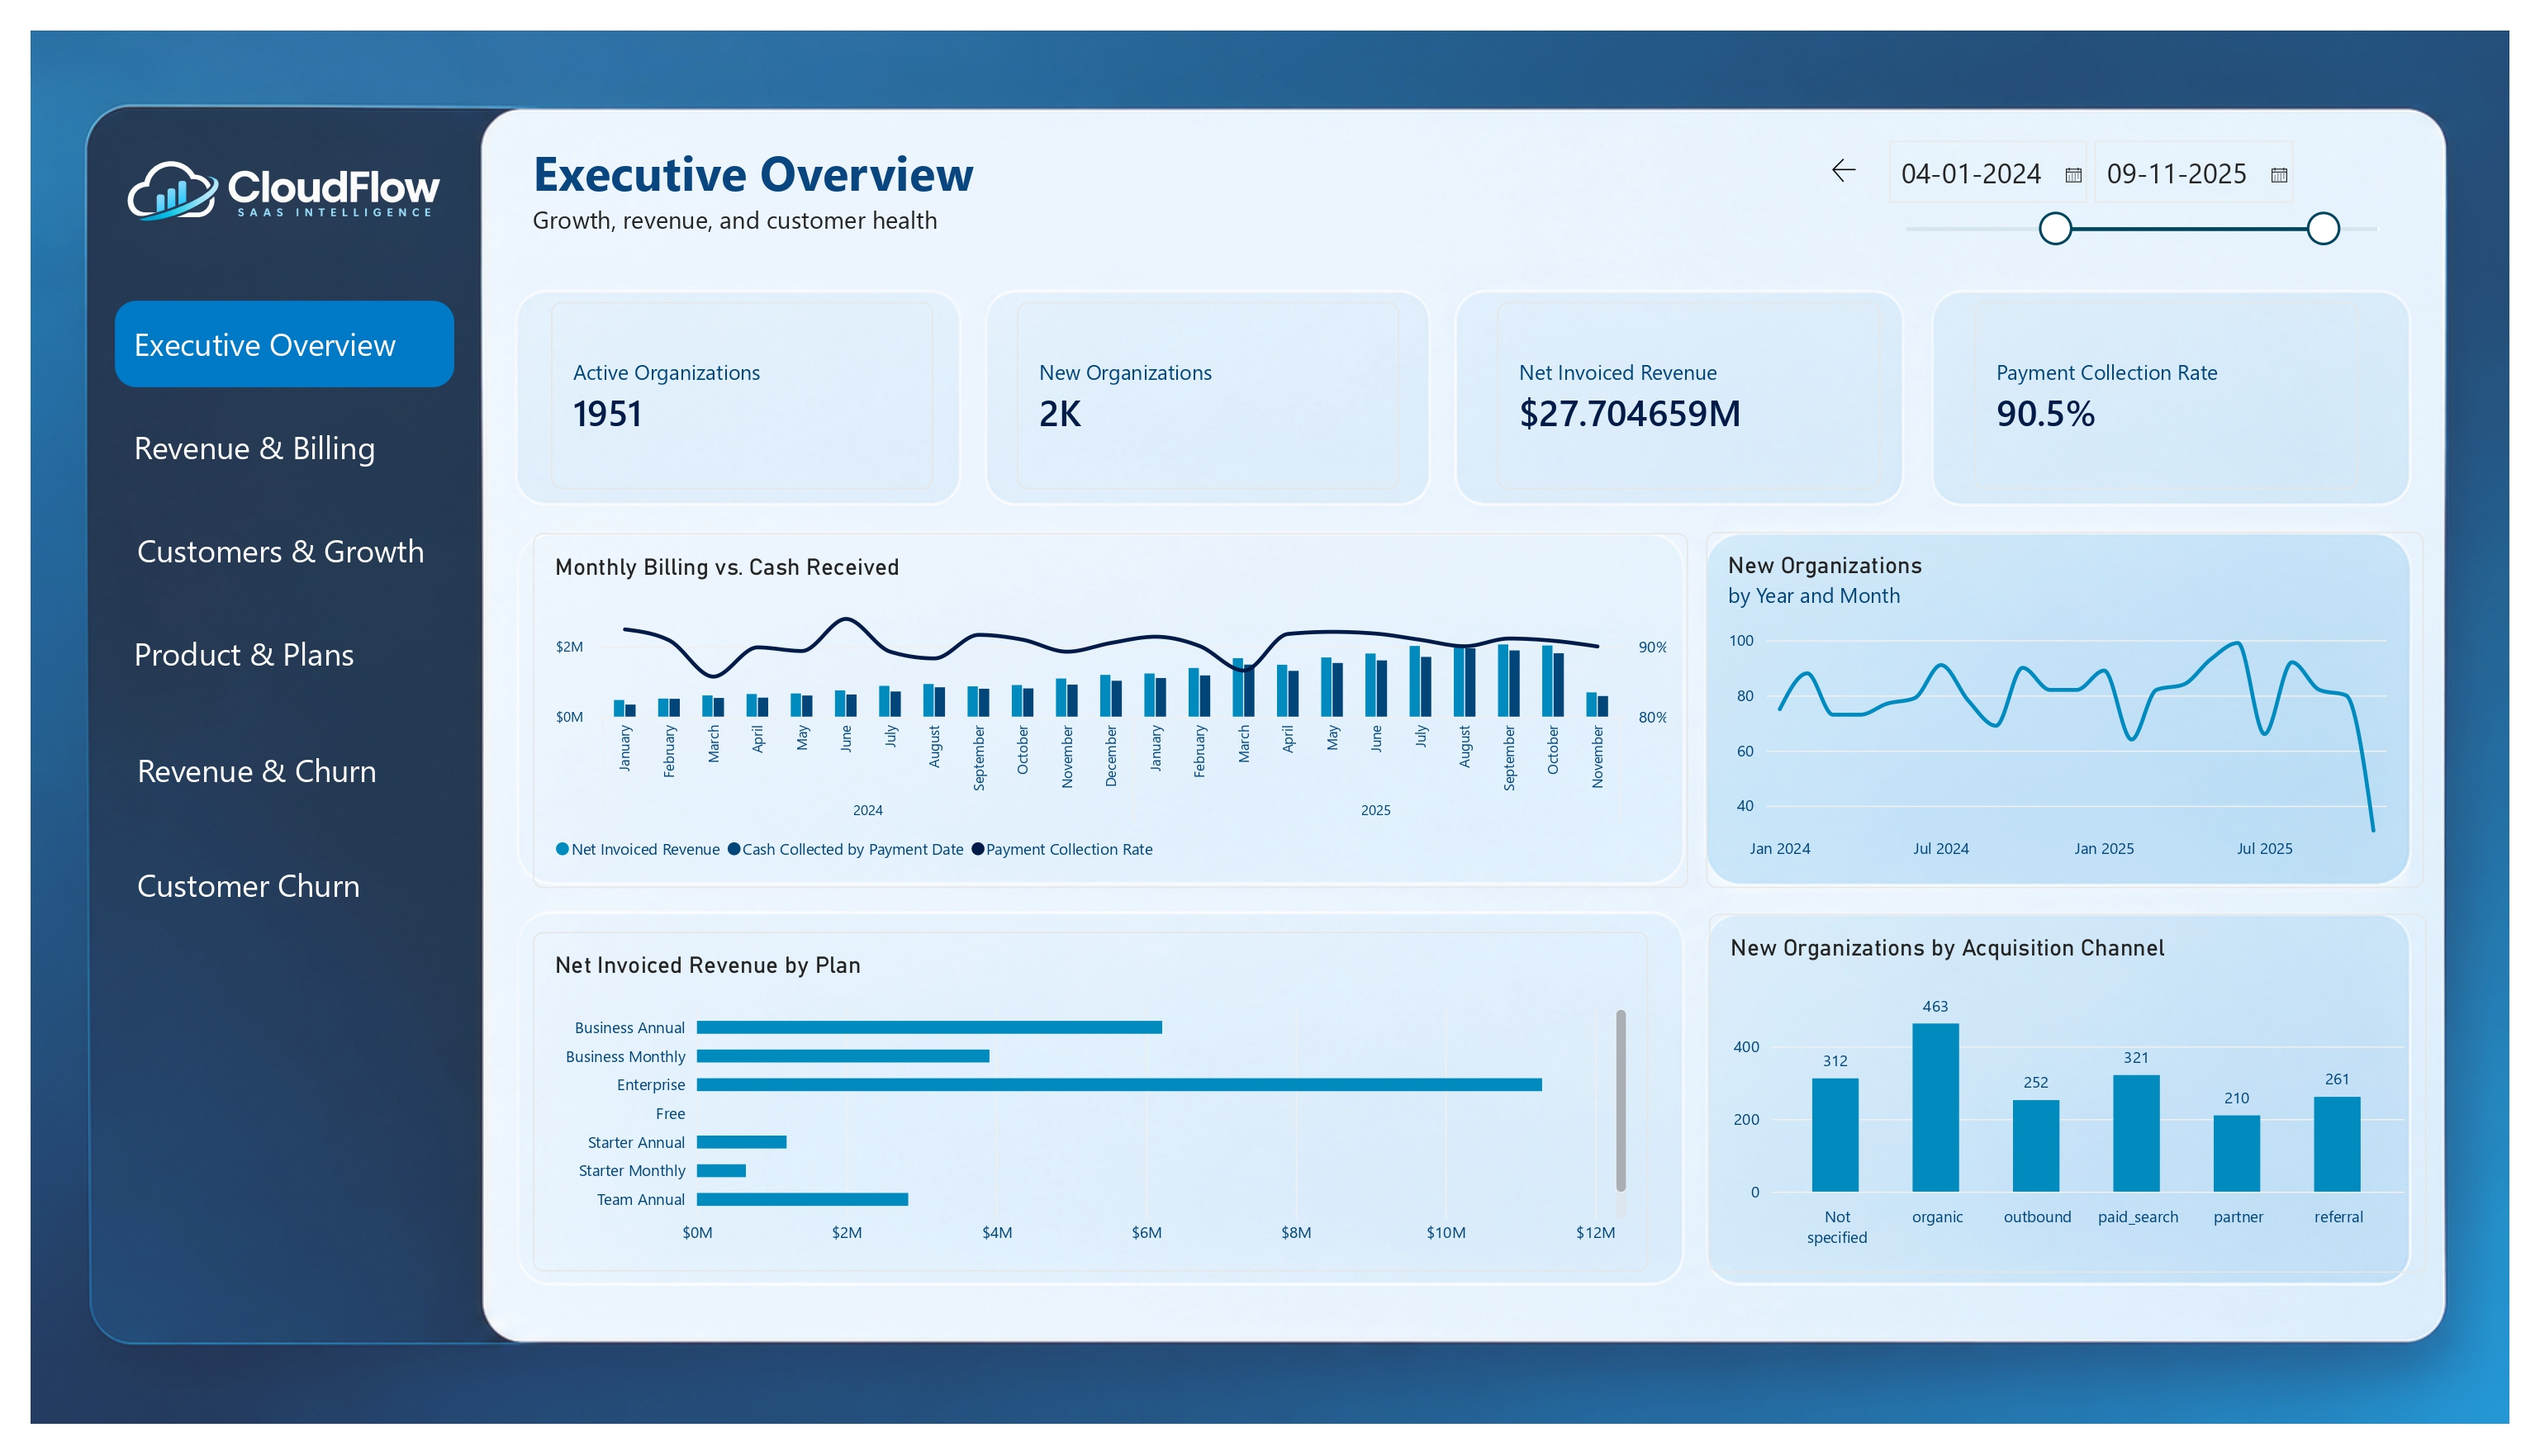

Layout of this report page (visuals, bound fields, positions):
{"tool":"powerbi","page":{"name":"Executive Overview","canvas":[1920,1080],"ordinal":0},"visuals":[{"type":"cardVisual","fields":{"Data":["_Measures (2).Active Organizations"]},"box":[402.5,209.9,296.5,145],"z":0},{"type":"cardVisual","fields":{"Data":["_Measures (2).New Organizations"]},"box":[763.9,209.9,296.5,145],"z":1000},{"type":"cardVisual","fields":{"Data":["_Measures (2).Net Invoiced Revenue"]},"box":[1136.2,209.9,296.5,145],"z":2000},{"type":"cardVisual","fields":{"Data":["_Measures (2).Payment Collection Rate"]},"box":[1506.2,209.9,296.5,145],"z":3000},{"type":"slicer","fields":{"Values":["Dim_Date_table.Date"]},"box":[1431.8,79.5,404.5,109.1],"z":4000},{"type":"lineClusteredColumnComboChart","title":"Monthly Billing vs. Cash Received","fields":{"Category":["Dim_Date_table.Date.Variation.Date Hierarchy.Year","Dim_Date_table.Date.Variation.Date Hierarchy.Month"],"Y":["_Measures (2).Net Invoiced Revenue","_Measures (2).Cash Collected by Payment Date"],"Y2":["_Measures (2).Payment Collection Rate"]},"box":[388.8,388.8,895,275],"z":5000},{"type":"actionButton","box":[1370.5,77.3,68.2,61.4],"z":7000},{"type":"lineChart","fields":{"Category":["Dim_organizations.Signup Month.Variation.Date Hierarchy.Year","Dim_organizations.Signup Month.Variation.Date Hierarchy.Month"],"Y":["_Measures (2).New Organizations"]},"box":[1298,388,556,276],"z":8000},{"type":"clusteredBarChart","title":"Net Invoiced Revenue by Plan","fields":{"Category":["Dim_plans.plan_name"],"Y":["_Measures (2).Net Invoiced Revenue"]},"box":[388.8,697.5,863.8,263.8],"z":9000},{"type":"clusteredColumnChart","title":"New Organizations by Acquisition Channel","fields":{"Category":["Dim_organizations.acquisition_channel"],"Y":["_Measures (2).New Organizations"]},"box":[1300,684,556,278],"z":10000},{"type":"shape","box":[64.9,208.7,262.7,67.3],"z":11000},{"type":"shape","box":[64.9,288,262,68],"z":12000},{"type":"shape","box":[66.9,368,262,68],"z":13000},{"type":"shape","box":[64.9,448,262,68],"z":14000},{"type":"textbox","box":[388.6,84.1,395.5,109.1],"z":15000},{"type":"shape","box":[66.5,537.5,262.5,68.3],"z":16000},{"type":"shape","box":[66.5,627.4,262.5,68.3],"z":17000},{"type":"image","box":[64.7,50.3,262.5,149.2],"z":18000}]}

Visuals, with their boxes on the page's 1920x1080 design canvas (x1, y1, x2, y2). These are canvas units, not pixel positions in the 2540x1456 screenshot, which may show the page scaled, cropped or inside an application window:
cardVisual - _Measures (2).Active Organizations: x1=402, y1=210, x2=699, y2=355
cardVisual - _Measures (2).New Organizations: x1=764, y1=210, x2=1060, y2=355
cardVisual - _Measures (2).Net Invoiced Revenue: x1=1136, y1=210, x2=1433, y2=355
cardVisual - _Measures (2).Payment Collection Rate: x1=1506, y1=210, x2=1803, y2=355
slicer - Dim_Date_table.Date: x1=1432, y1=80, x2=1836, y2=189
"Monthly Billing vs. Cash Received" lineClusteredColumnComboChart: x1=389, y1=389, x2=1284, y2=664
actionButton: x1=1370, y1=77, x2=1439, y2=139
lineChart - Dim_organizations.Signup Month.Variation.Date Hierarchy.Year x Dim_organizations.Signup Month.Variation.Date Hierarchy.Month: x1=1298, y1=388, x2=1854, y2=664
"Net Invoiced Revenue by Plan" clusteredBarChart: x1=389, y1=698, x2=1253, y2=961
"New Organizations by Acquisition Channel" clusteredColumnChart: x1=1300, y1=684, x2=1856, y2=962
shape: x1=65, y1=209, x2=328, y2=276
shape: x1=65, y1=288, x2=327, y2=356
shape: x1=67, y1=368, x2=329, y2=436
shape: x1=65, y1=448, x2=327, y2=516
textbox: x1=389, y1=84, x2=784, y2=193
shape: x1=66, y1=538, x2=329, y2=606
shape: x1=66, y1=627, x2=329, y2=696
image: x1=65, y1=50, x2=327, y2=200
